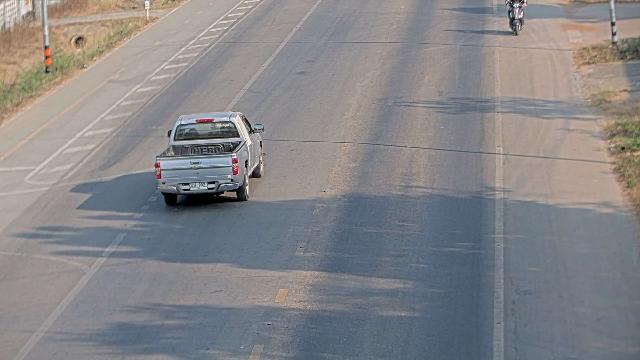pickup-truck: (153, 110, 265, 205), (504, 0, 526, 35)
